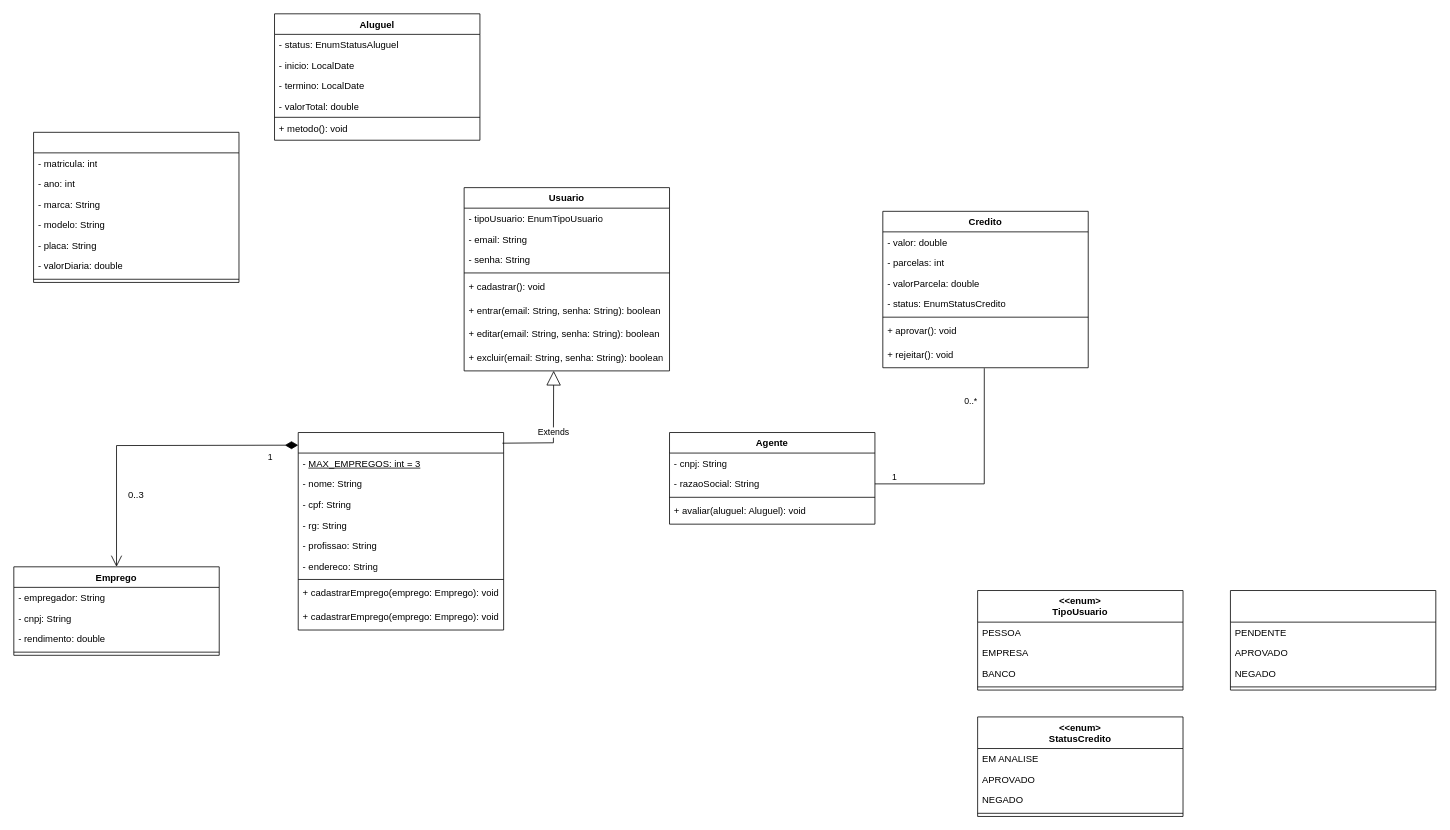
Image size: 1450x830. Some labels were removed from this diagram. Each missing label, with the box of its shape:
<<enum> StatusAluguel: (1230, 590, 1436, 690)
Automovel: (33, 132, 239, 282)
Cliente: (297, 432, 504, 630)
